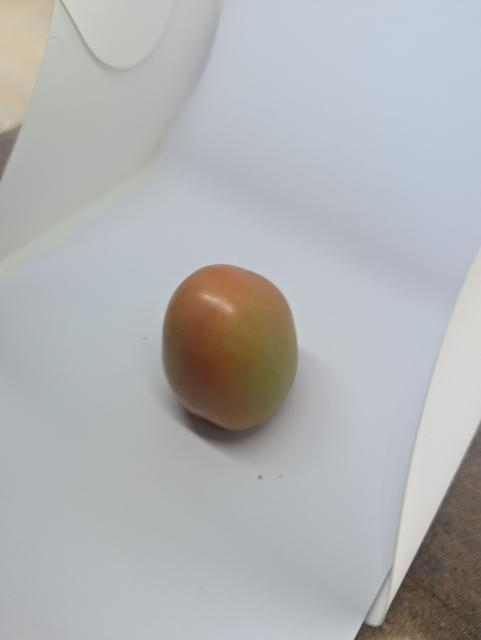turning: (157, 257, 307, 437)
